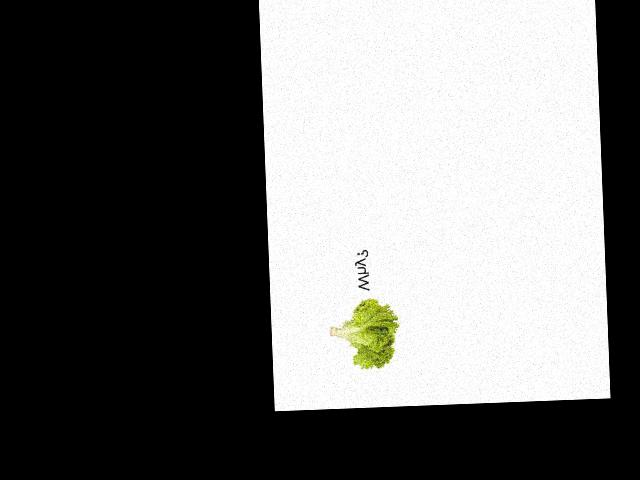lettuce: (321, 257, 406, 373)
